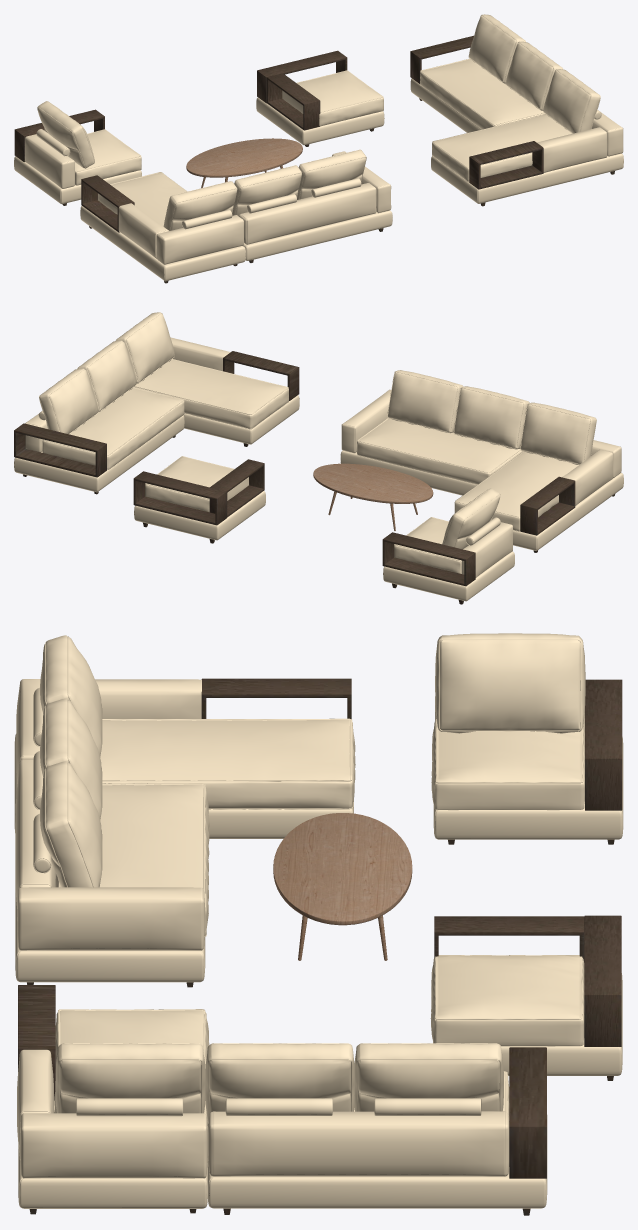
The model's file is sceneCo-transformed.glb.
The picture shows the model from 3 angles, top to bottom: view 1: azimuth 30°, elevation 25°; view 2: azimuth 150°, elevation 25°; view 3: azimuth 270°, elevation 25°; orthographic projection. The views are drawn at different scales.
Visible parts, largest first — view 1: Object_4, Object_7, Object_10, Object_13, Object_16, Object_14, Object_8, Object_5, Object_11; view 2: Object_4, Object_7, Object_10, Object_13, Object_14, Object_8, Object_16, Object_11, Object_5; view 3: Object_7, Object_4, Object_10, Object_13, Object_16, Object_14, Object_8, Object_11, Object_5.
Boxes of the visible parts, left/top/right/bottom form: Object_4: left=80, top=149, right=392, bottom=281; Object_7: left=410, top=14, right=623, bottom=203; Object_10: left=14, top=101, right=141, bottom=204; Object_13: left=256, top=70, right=384, bottom=145; Object_16: left=186, top=138, right=302, bottom=187; Object_14: left=257, top=50, right=374, bottom=146; Object_8: left=410, top=35, right=614, bottom=206; Object_5: left=81, top=175, right=383, bottom=283; Object_11: left=14, top=109, right=104, bottom=205; Object_4: left=340, top=370, right=623, bottom=550; Object_7: left=14, top=312, right=299, bottom=492; Object_10: left=383, top=488, right=514, bottom=601; Object_13: left=134, top=456, right=265, bottom=540; Object_14: left=133, top=459, right=264, bottom=543; Object_8: left=14, top=351, right=299, bottom=494; Object_16: left=313, top=463, right=433, bottom=530; Object_11: left=382, top=532, right=475, bottom=604; Object_5: left=520, top=476, right=614, bottom=552; Object_7: left=17, top=1009, right=547, bottom=1208; Object_4: left=14, top=635, right=355, bottom=982; Object_10: left=431, top=633, right=623, bottom=839; Object_13: left=430, top=955, right=622, bottom=1075; Object_16: left=273, top=813, right=412, bottom=960; Object_14: left=434, top=915, right=621, bottom=1080; Object_8: left=18, top=985, right=546, bottom=1215; Object_11: left=448, top=679, right=622, bottom=844; Object_5: left=27, top=678, right=351, bottom=987.
Size of the model in its own units: 5 by 0.8081 by 2.85.
9 materials, 5 textured.
